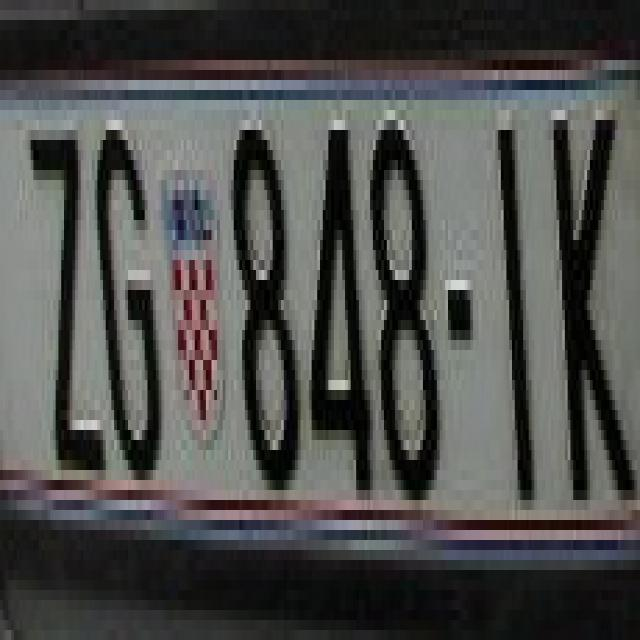4: (306, 100, 373, 490)
8: (373, 110, 442, 490), (228, 110, 295, 490)
G: (92, 110, 170, 480)
K: (548, 110, 635, 520)
Z: (28, 120, 108, 470)
